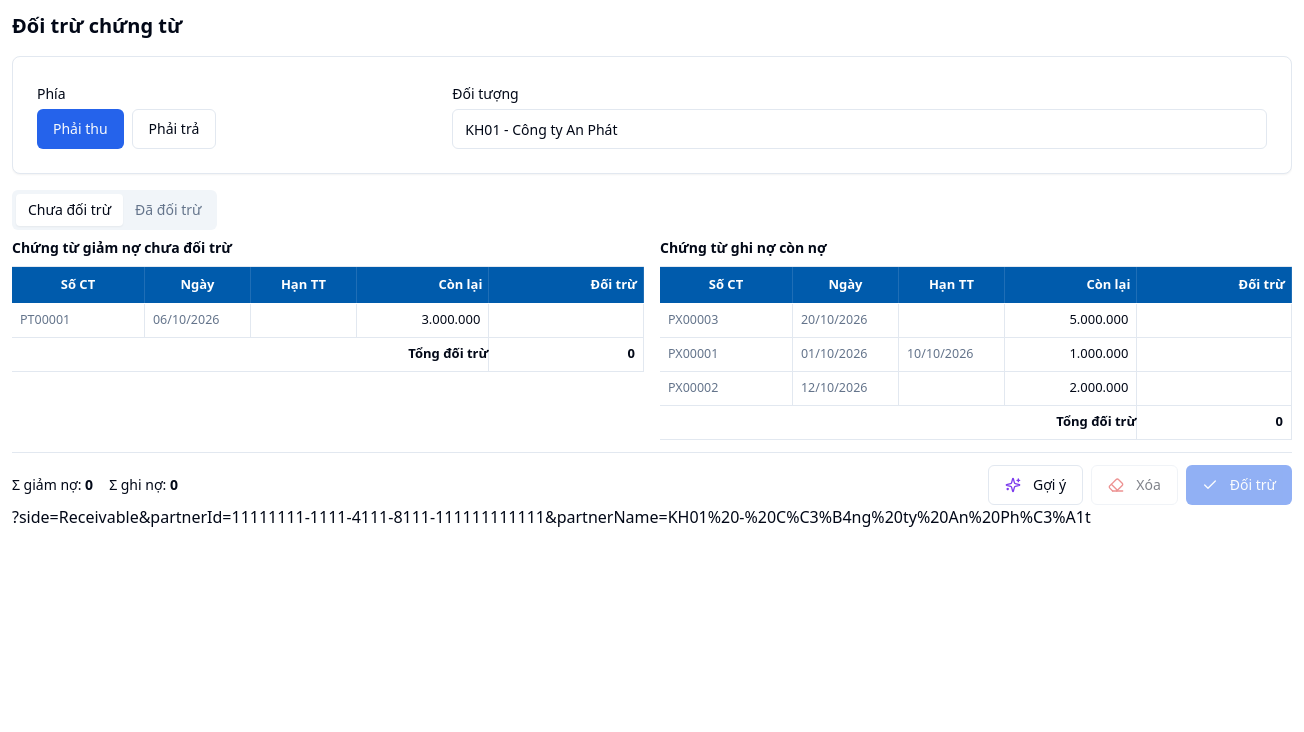
Test: DebtMatchingPage › managed settlements have no unmatch button
Click the tab "Đã đối trừ".
click(168, 210)  # box [123,194,214,226]
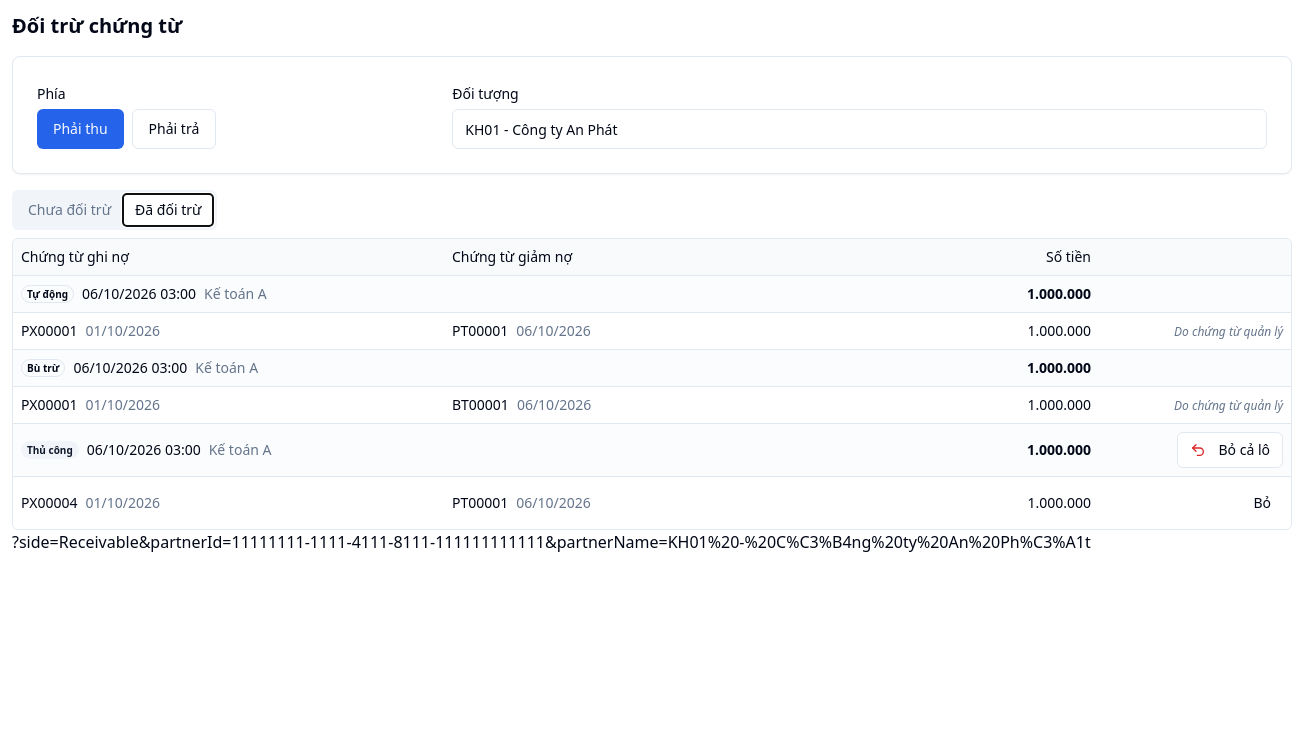
Result: the button "Bỏ" is shown at [1241,485,1283,521]
Result: the button "Bỏ cả lô" is shown at [1178,432,1283,468]
